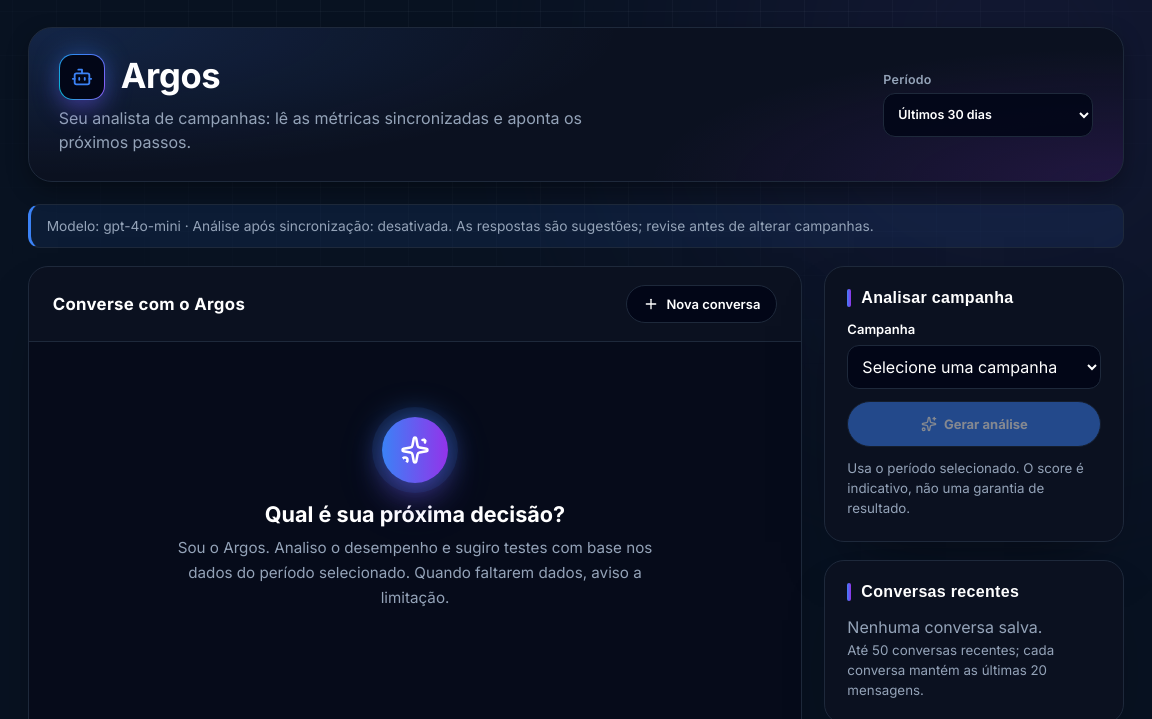
Test case: Assistant › analyzes the selected campaign instead of a fixed ID
This screenshot has width=1152, height=719.
Step 1. Select "Campanha real" in the dropdown labelled "Campanha" → {"x": 974, "y": 367}, box [847,345,1101,389]
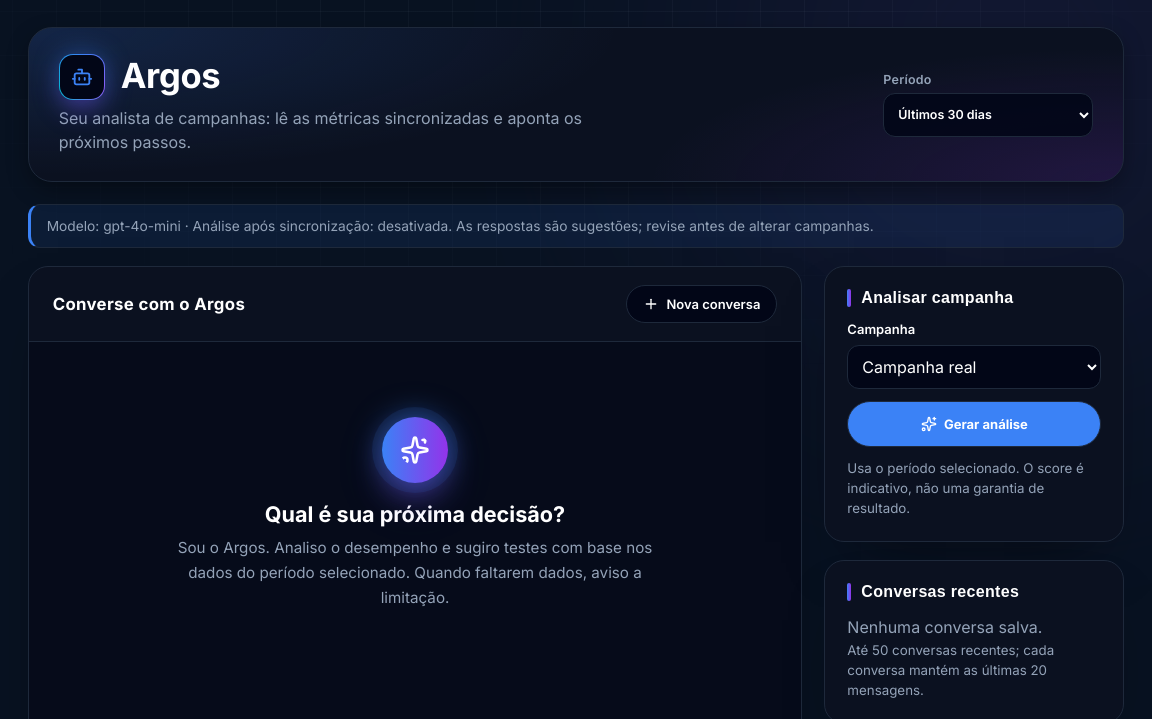
Step 2. Click the button "Gerar análise" → {"x": 974, "y": 424}, box [847,401,1101,447]
(page scrolled)
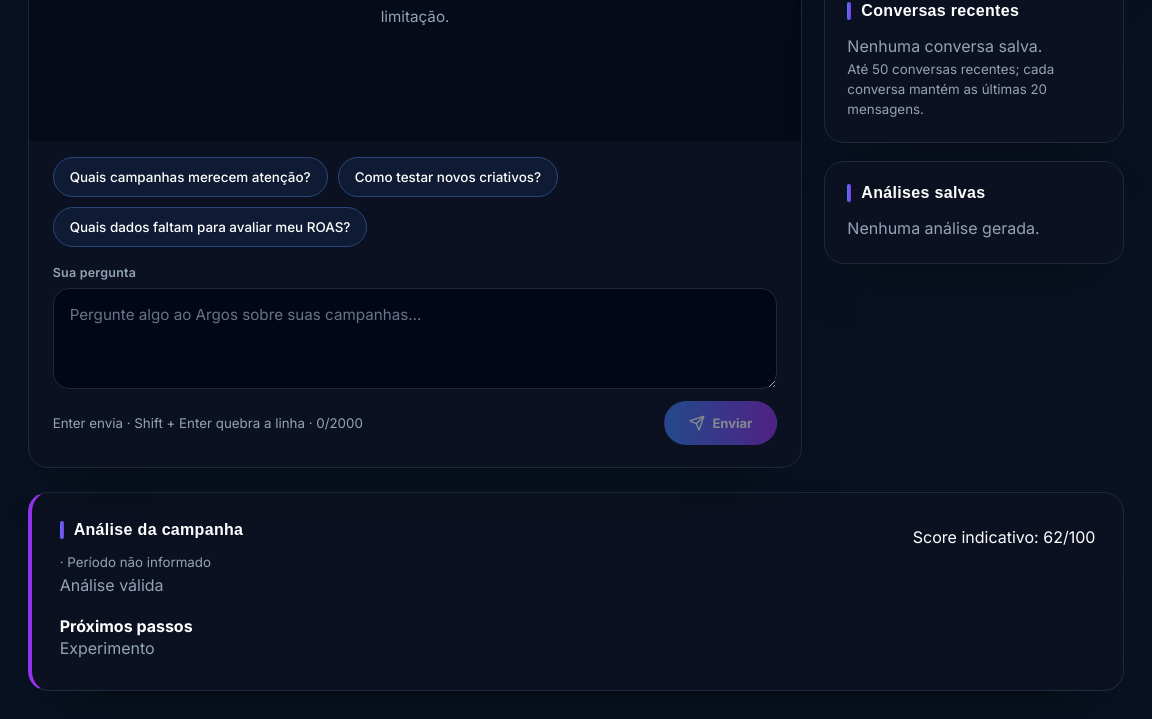
Expected: the text "Análise válida" is shown, [60,575,164,595]
